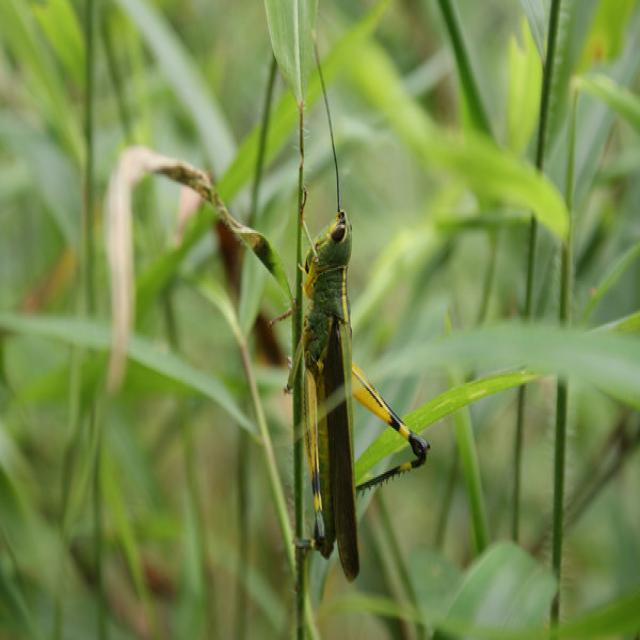ZhaMeng: (287, 191, 427, 588)
